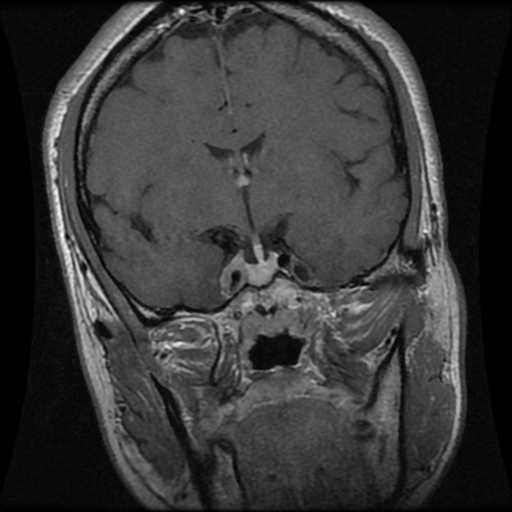pituitary: (220, 250, 278, 290)
